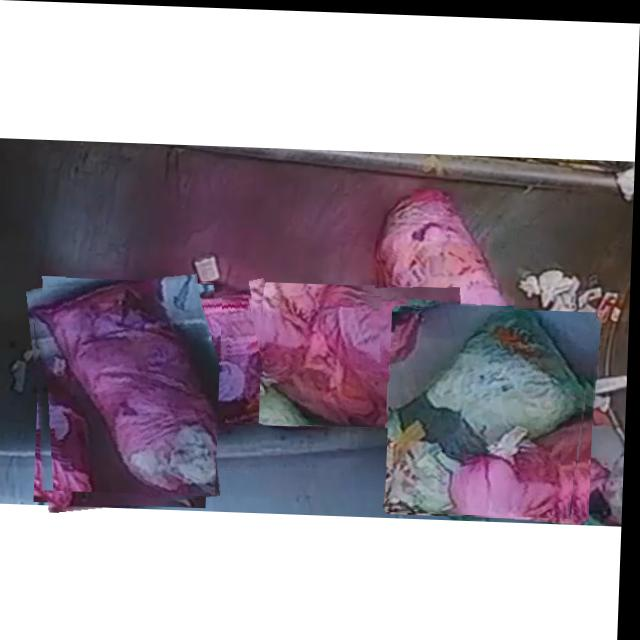general_trashbag: (391, 309, 591, 510)
other_trashbag: (35, 279, 221, 494), (265, 287, 451, 426), (380, 186, 516, 364), (177, 295, 271, 422)
